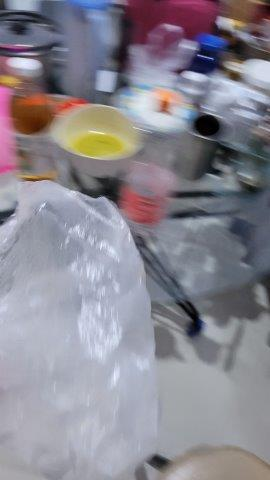plastik: (1, 174, 156, 480)
